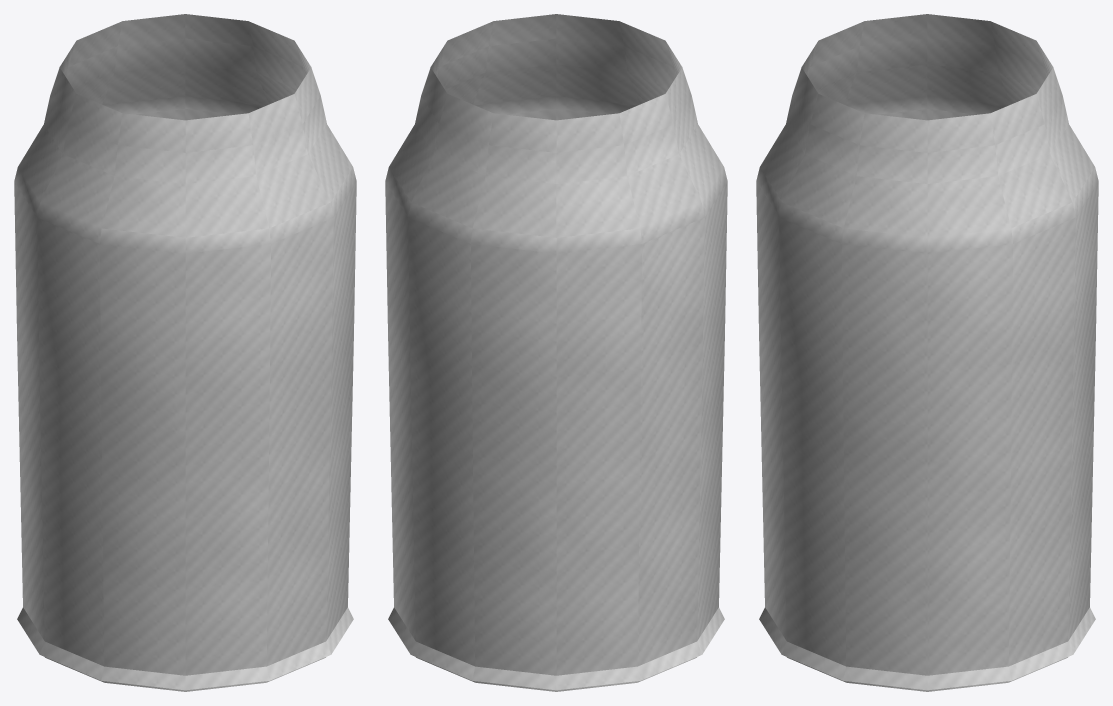
File: pants_shorts_leg_r.glb
3 views of the same model, side by side, from view 1: azimuth 30°, elevation 25°; view 2: azimuth 150°, elevation 25°; view 3: azimuth 270°, elevation 25° (orthographic).
Visible parts, largest first — view 1: pants_shorts_leg_r; view 2: pants_shorts_leg_r; view 3: pants_shorts_leg_r.
Boxes of the visible parts, x1,y1,x2,y2 form: pants_shorts_leg_r: [14, 14, 356, 691]; pants_shorts_leg_r: [385, 14, 727, 691]; pants_shorts_leg_r: [756, 14, 1098, 691].
Size of the model in its own units: 0.2177 by 0.39 by 0.2177.
1 material, 1 textured.
